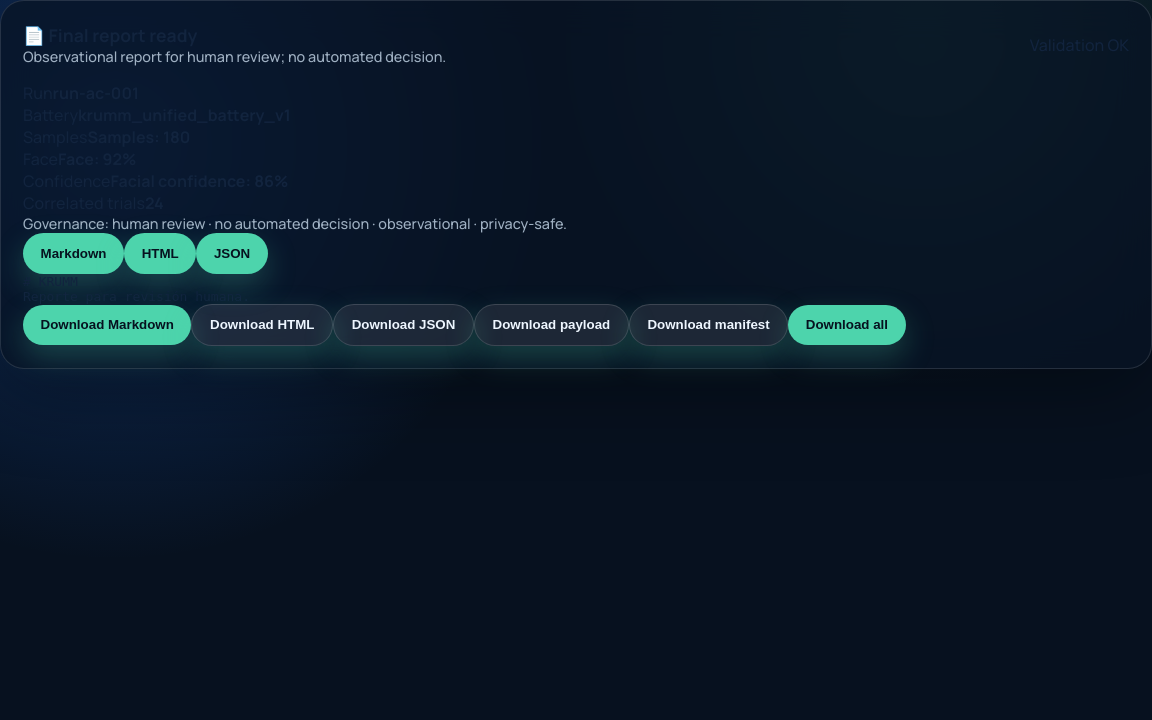
Test case: FinalReportPanel › previews markdown, html and json as safe text without rendering HTML
expect the element with test id "final-report-preview" shows "# KRUMM": met, box [23, 274, 250, 304]
Click the button "HTML": (160, 253) [124, 233, 196, 274]
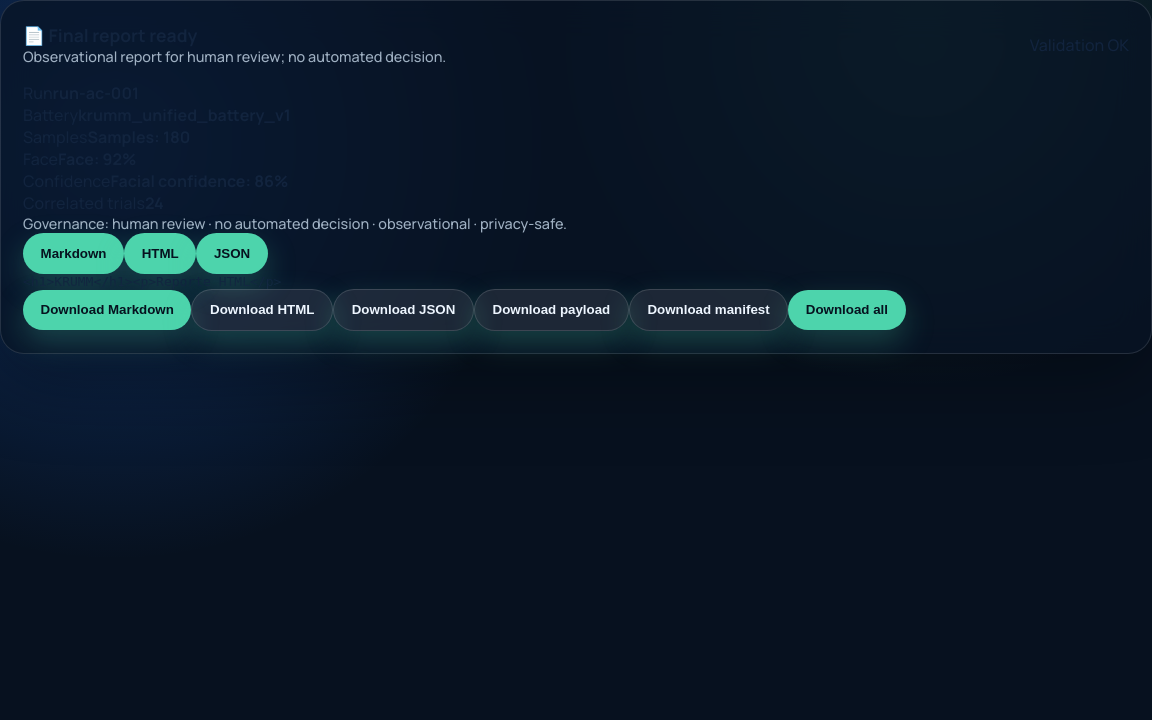
expect the element with test id "final-report-preview" shows "<h1>KRUMM</h1>": met, box [23, 274, 281, 289]
Click the button "JSON": (232, 253) [196, 233, 268, 274]
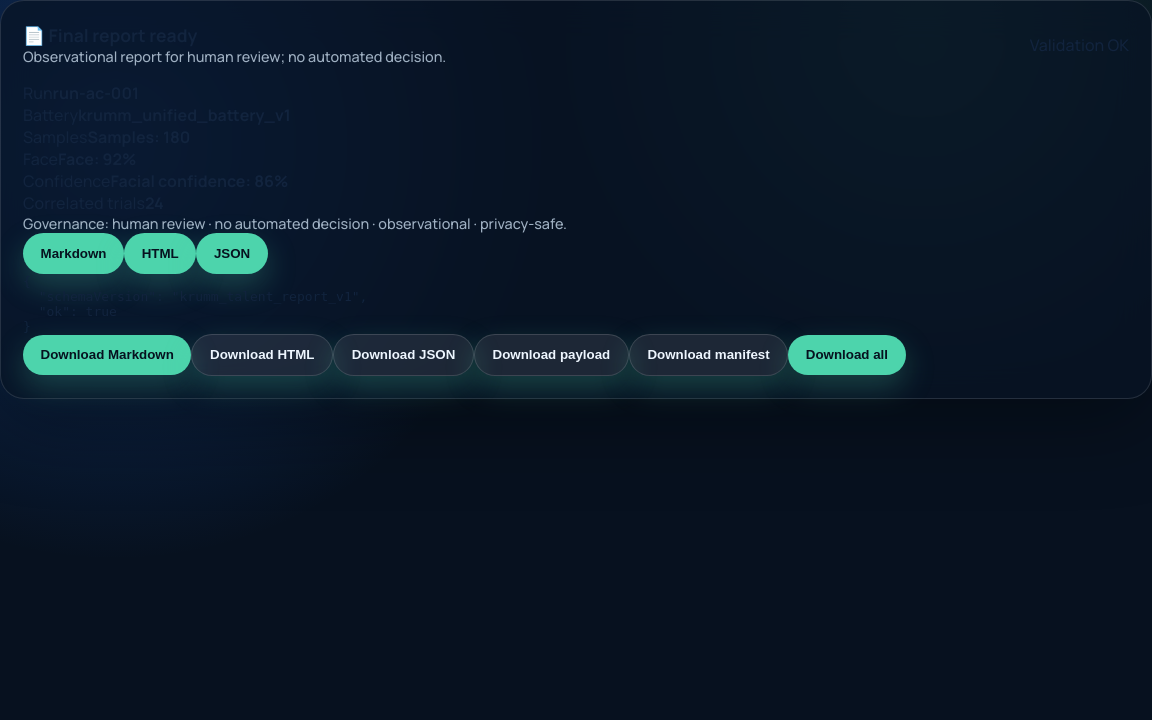
expect the element with test id "final-report-preview" shows "krumm_talent_report_v1": met, box [23, 274, 367, 334]
